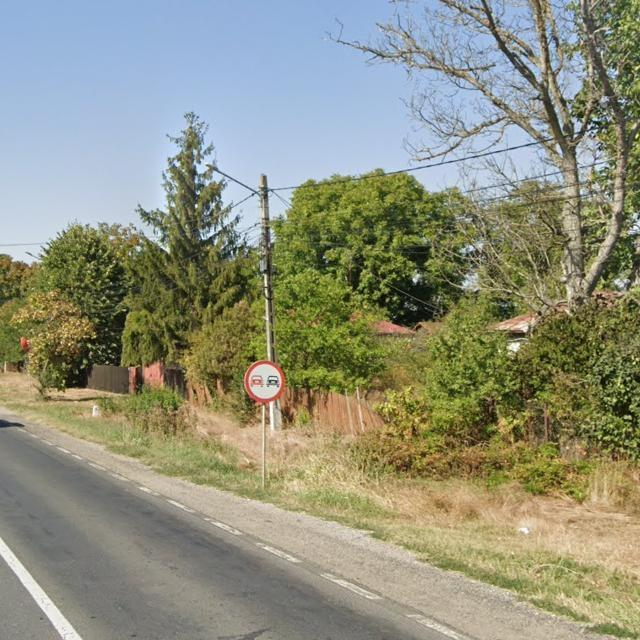forb_overtake: (243, 360, 285, 403)
